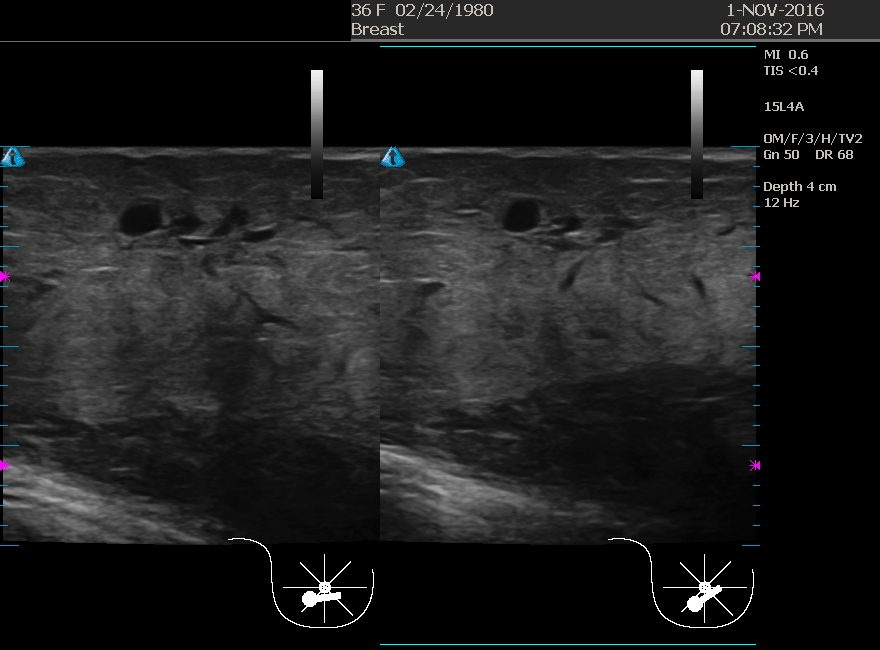BIRADS_2: (34, 187, 234, 387), (434, 150, 634, 350)
